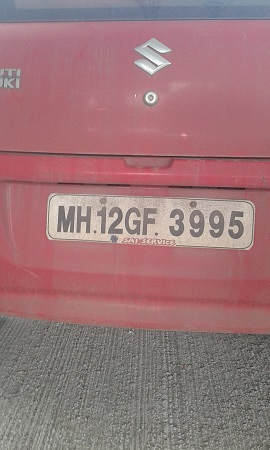licenseplate: (46, 191, 258, 253)
